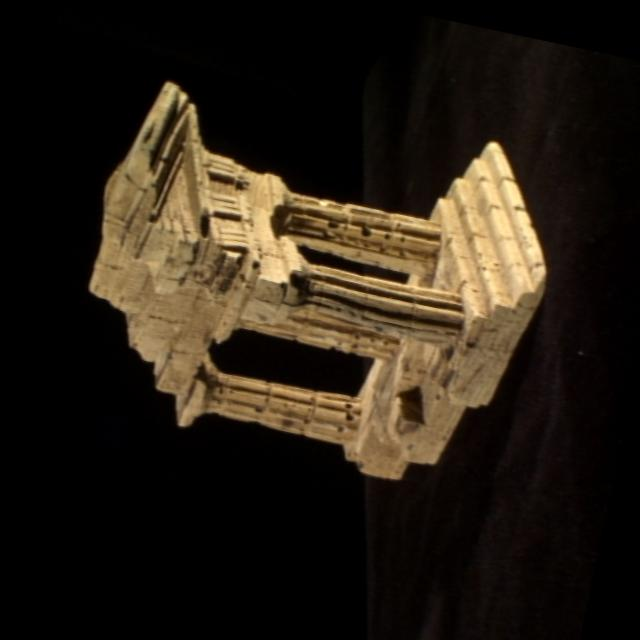Instance-Segmentation: (90, 82, 546, 478)
